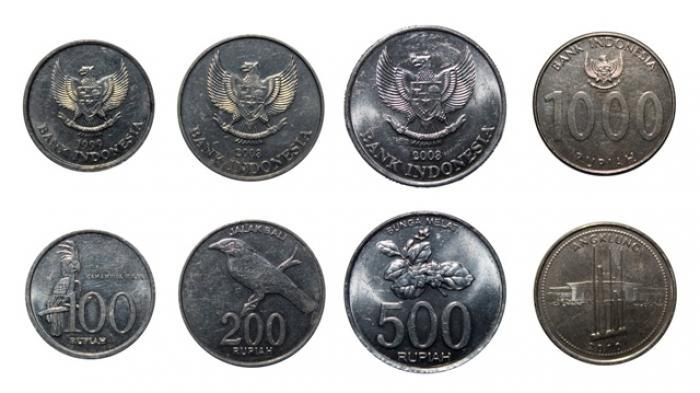coin_100_e1999: (19, 224, 157, 362), (21, 37, 158, 174)
